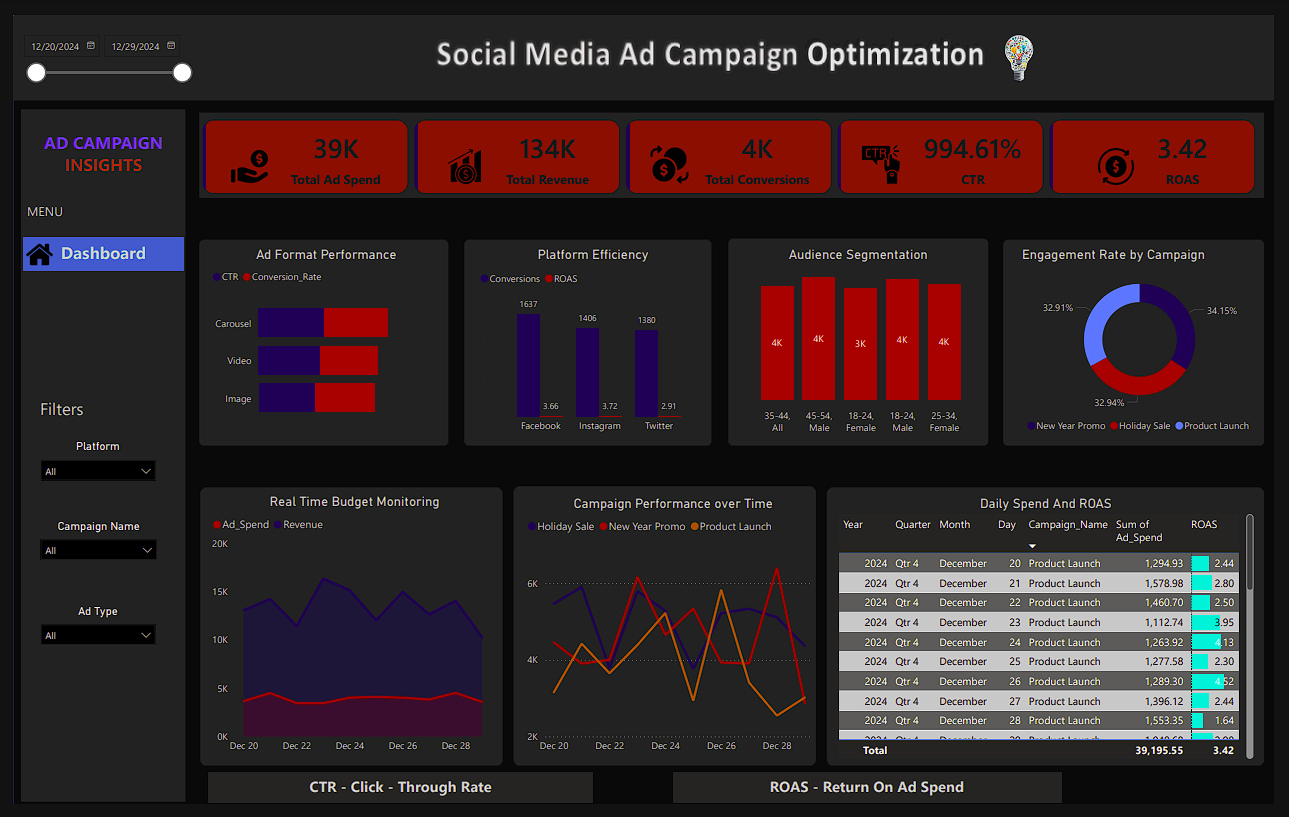

What the dashboard file says about the page in this screenshot:
{"tool":"powerbi","page":{"name":"Page 1","canvas":[1600,1000],"ordinal":0},"visuals":[{"type":"clusteredColumnChart","title":"Platform Efficiency","fields":{"Category":["campaign social_media_ad_campaign.Platform"],"Y":["Sum(campaign social_media_ad_campaign.Conversions)","campaign social_media_ad_campaign.ROAS"]},"box":[586.6,293.3,298.5,245.3],"z":0},{"type":"columnChart","title":"Audience Segmentation","fields":{"Category":["campaign social_media_ad_campaign.Target_Audience"],"Y":["campaign social_media_ad_campaign.Conversion_Rate","Sum(campaign social_media_ad_campaign.Engagement)"]},"box":[916,293.3,313.9,245.3],"z":1000},{"type":"barChart","title":"Ad Format Performance","fields":{"Y":["campaign social_media_ad_campaign.CTR","campaign social_media_ad_campaign.Conversion_Rate"],"Category":["campaign social_media_ad_campaign.Ad_Type"]},"box":[247,293.3,300.2,245.3],"z":2000},{"type":"lineChart","title":"Campaign Performance over Time","fields":{"Series":["campaign social_media_ad_campaign.Campaign_Name"],"Category":["campaign social_media_ad_campaign.Date.Variation.Date Hierarchy.Year","campaign social_media_ad_campaign.Date.Variation.Date Hierarchy.Quarter","campaign social_media_ad_campaign.Date.Variation.Date Hierarchy.Month","campaign social_media_ad_campaign.Date.Variation.Date Hierarchy.Day"],"Y":["campaign social_media_ad_campaign.Total_Revenue"]},"box":[646.7,608.9,382.5,336.2],"z":3000},{"type":"donutChart","title":"Engagement Rate by Campaign","fields":{"Category":["campaign social_media_ad_campaign.Campaign_Name"],"Y":["Sum(campaign social_media_ad_campaign.Engagement)"]},"box":[1276.2,293.3,308.7,245.3],"z":4000},{"type":"tableEx","title":"Daily Spend  And ROAS","fields":{"Values":["campaign social_media_ad_campaign.Date.Variation.Date Hierarchy.Year","campaign social_media_ad_campaign.Date.Variation.Date Hierarchy.Quarter","campaign social_media_ad_campaign.Date.Variation.Date Hierarchy.Month","campaign social_media_ad_campaign.Date.Variation.Date Hierarchy.Day","campaign social_media_ad_campaign.Campaign_Name","Sum(campaign social_media_ad_campaign.Ad_Spend)","campaign social_media_ad_campaign.ROAS"]},"box":[1042.9,608.9,536.9,339.6],"z":5000},{"type":"slicer","title":"Platform","fields":{"Values":["campaign social_media_ad_campaign.Platform"]},"box":[24,538.6,166.4,60],"z":6000},{"type":"slicer","title":"Campaign Name","fields":{"Values":["campaign social_media_ad_campaign.Campaign_Name"]},"box":[24,639.8,168.1,60],"z":7000},{"type":"slicer","title":"Ad Type","fields":{"Values":["campaign social_media_ad_campaign.Ad_Type"]},"box":[24,747.9,166.4,60],"z":8000},{"type":"slicer","fields":{"Values":["campaign social_media_ad_campaign.Date"]},"box":[0,13.7,235,73.8],"z":9000},{"type":"cardVisual","fields":{"Data":["campaign social_media_ad_campaign.Total_Ad_Spend","campaign social_media_ad_campaign.Total_Revenue","Sum(campaign social_media_ad_campaign.Conversions)","campaign social_media_ad_campaign.CTR","campaign social_media_ad_campaign.ROAS"]},"box":[235,126.9,1349.9,104.6],"z":10000},{"type":"areaChart","title":"Real Time Budget Monitoring","fields":{"Y":["Sum(campaign social_media_ad_campaign.Ad_Spend)","Sum(campaign social_media_ad_campaign.Revenue)"],"Category":["campaign social_media_ad_campaign.Date.Variation.Date Hierarchy.Year","campaign social_media_ad_campaign.Date.Variation.Date Hierarchy.Quarter","campaign social_media_ad_campaign.Date.Variation.Date Hierarchy.Month","campaign social_media_ad_campaign.Date.Variation.Date Hierarchy.Day"]},"box":[247,607.2,372.2,337.9],"z":11000},{"type":"textbox","box":[0,478.6,121.8,39.5],"z":12000},{"type":"image","box":[1221.3,13.7,109.8,78.9],"z":13000},{"type":"textbox","box":[247,960.6,488.9,39.5],"z":14000},{"type":"textbox","box":[837.1,960.6,494,39.5],"z":15000},{"type":"textbox","box":[12,140.7,204.1,78.9],"z":16000},{"type":"textbox","box":[12,231.6,106.3,49.7],"z":17000},{"type":"textbox","box":[12,281.3,204.1,42.9],"z":18000},{"type":"image","box":[0,281.3,65.2,42.9],"z":19000}]}

Visuals, with their boxes in screenshot pixels (x1, y1, x2, y2), scaled from the page's 1600x1000 canvas onto the 1289x817 screenshot:
"Platform Efficiency" clusteredColumnChart: pyautogui.locateOnScreen(473, 240, 713, 440)
"Audience Segmentation" columnChart: pyautogui.locateOnScreen(738, 240, 991, 440)
"Ad Format Performance" barChart: pyautogui.locateOnScreen(199, 240, 441, 440)
"Campaign Performance over Time" lineChart: pyautogui.locateOnScreen(521, 497, 829, 772)
"Engagement Rate by Campaign" donutChart: pyautogui.locateOnScreen(1028, 240, 1277, 440)
"Daily Spend  And ROAS" tableEx: pyautogui.locateOnScreen(840, 497, 1273, 775)
"Platform" slicer: pyautogui.locateOnScreen(19, 440, 153, 489)
"Campaign Name" slicer: pyautogui.locateOnScreen(19, 523, 155, 572)
"Ad Type" slicer: pyautogui.locateOnScreen(19, 611, 153, 660)
slicer - campaign social_media_ad_campaign.Date: pyautogui.locateOnScreen(0, 11, 189, 71)
cardVisual - campaign social_media_ad_campaign.Total_Ad_Spend x campaign social_media_ad_campaign.Total_Revenue: pyautogui.locateOnScreen(189, 104, 1277, 189)
"Real Time Budget Monitoring" areaChart: pyautogui.locateOnScreen(199, 496, 499, 772)
textbox: pyautogui.locateOnScreen(0, 391, 98, 423)
image: pyautogui.locateOnScreen(984, 11, 1072, 76)
textbox: pyautogui.locateOnScreen(199, 785, 593, 816)
textbox: pyautogui.locateOnScreen(674, 785, 1072, 816)
textbox: pyautogui.locateOnScreen(10, 115, 174, 179)
textbox: pyautogui.locateOnScreen(10, 189, 95, 230)
textbox: pyautogui.locateOnScreen(10, 230, 174, 265)
image: pyautogui.locateOnScreen(0, 230, 53, 265)
